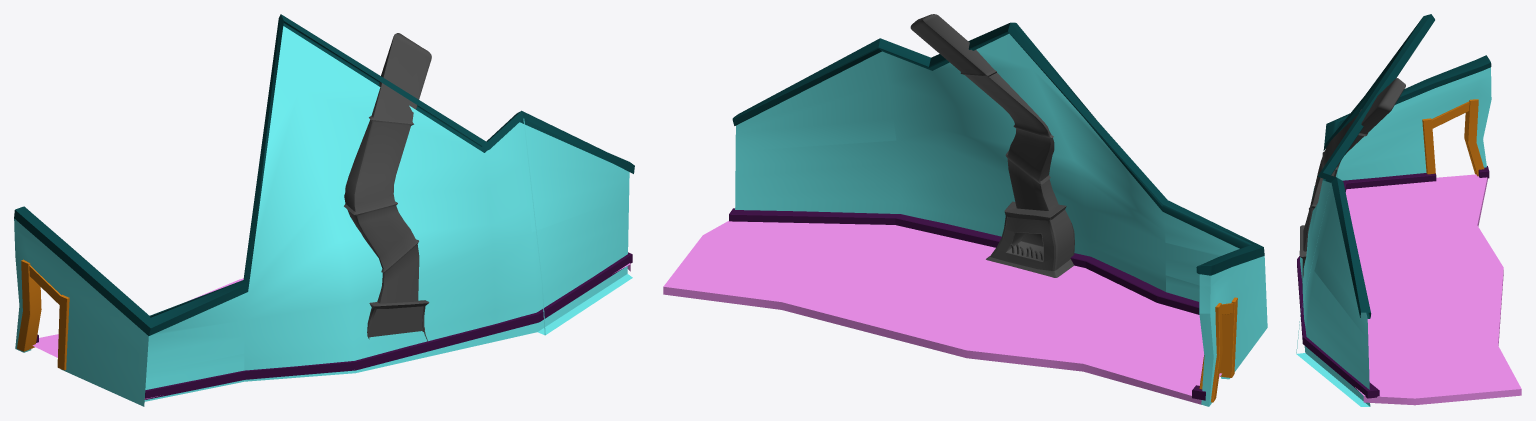
File: Room_Antagonist_1.FBX
The picture shows the model from 3 angles, left to right: view 1: azimuth 30°, elevation 25°; view 2: azimuth 150°, elevation 25°; view 3: azimuth 270°, elevation 25°; orthographic projection. The views are drawn at different scales.
Visible parts, largest first — view 1: Object005, Box024; view 2: Object005, Object002, Box024; view 3: Object002, Object005, Box024.
Boxes of the visible parts, left/top/right/bottom form: Object005: left=14, top=14, right=634, bottom=406; Box024: left=344, top=33, right=431, bottom=341; Object005: left=729, top=22, right=1267, bottom=406; Object002: left=663, top=221, right=1221, bottom=404; Box024: left=910, top=14, right=1074, bottom=277; Object002: left=1345, top=174, right=1521, bottom=405; Object005: left=1296, top=14, right=1491, bottom=406; Box024: left=1299, top=78, right=1405, bottom=289.
Size of the model in its own units: 2608 by 1084 by 1400.
